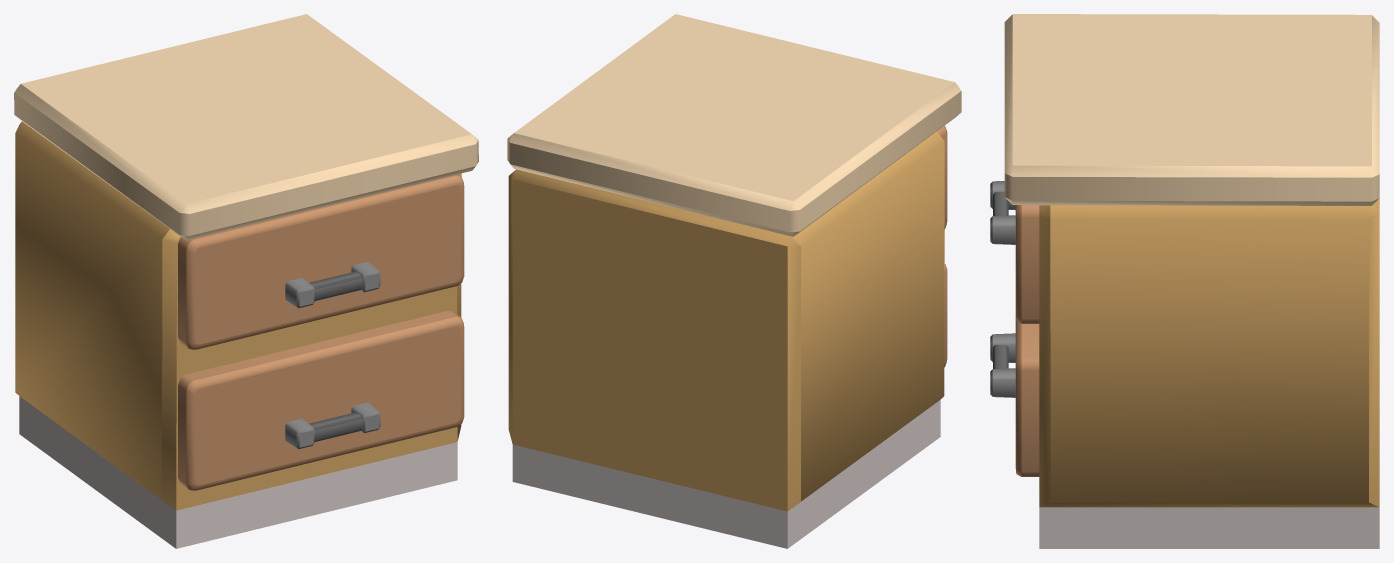
Rendered from Furnit_B_6_B.glb.
3 renders of one model, left to right at view 1: azimuth 30°, elevation 25°; view 2: azimuth 150°, elevation 25°; view 3: azimuth 270°, elevation 25°, orthographic. The views are drawn at different scales.
Visible parts, largest first — view 1: Furnit_B_6_B; view 2: Furnit_B_6_B; view 3: Furnit_B_6_B.
Part boxes in pixels (<box>): Furnit_B_6_B: <box>14,14,478,548</box>; Furnit_B_6_B: <box>507,14,961,548</box>; Furnit_B_6_B: <box>990,14,1379,548</box>.
Size of the model in its own units: 0.9 by 1.02 by 0.9348.
Materials: 1 (1 with a texture image).
